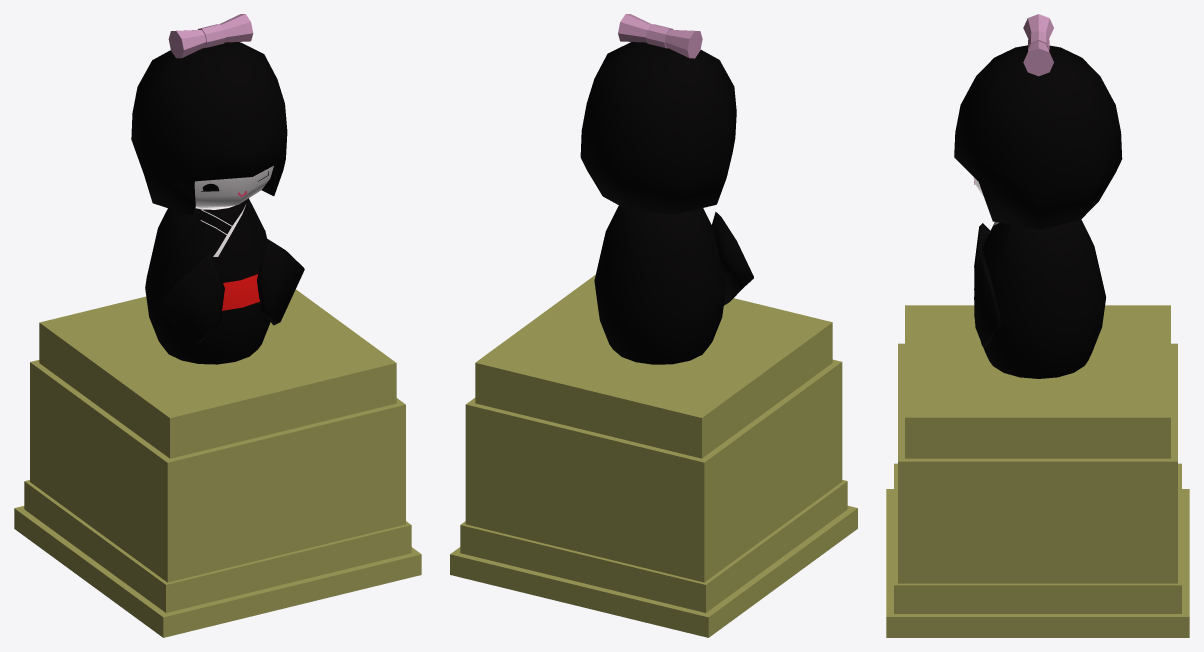
Rendered from kokeshi.glb.
The picture shows the model from 3 angles, left to right: view 1: azimuth 30°, elevation 25°; view 2: azimuth 150°, elevation 25°; view 3: azimuth 270°, elevation 25°; orthographic projection.
Size of the model in its own units: 2 by 3.93 by 2.
Materials: 2 (2 with a texture image).
